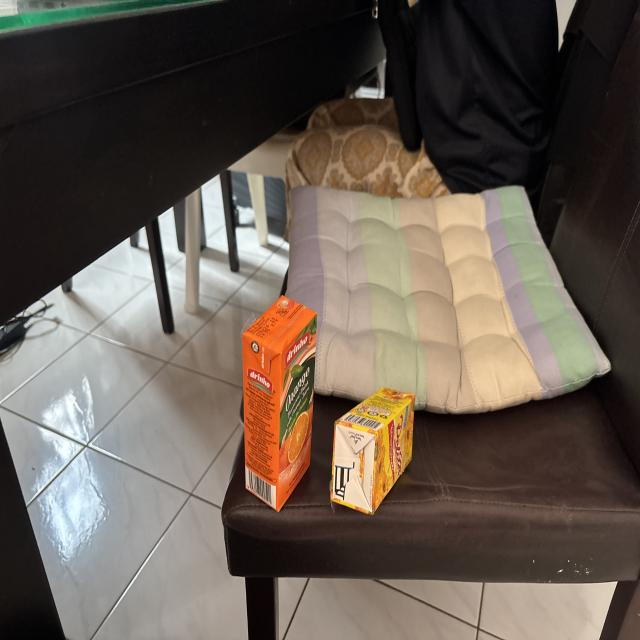drink_carton: (233, 287, 323, 519), (326, 380, 420, 523)
